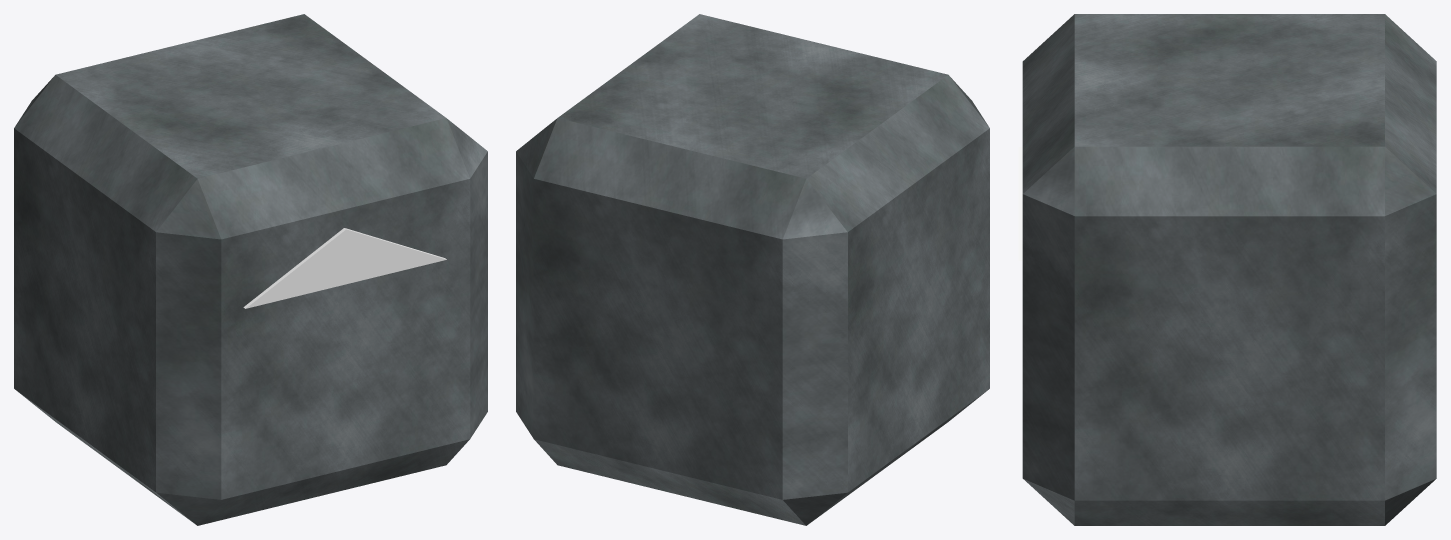
Rendered from Block.fbx.
The picture shows the model from 3 angles, left to right: view 1: azimuth 30°, elevation 25°; view 2: azimuth 150°, elevation 25°; view 3: azimuth 270°, elevation 25°; orthographic projection. The views are drawn at different scales.
Parts seen in each view (by area): view 1: mergedBlocks; view 2: mergedBlocks; view 3: mergedBlocks.
Part boxes in pixels (<box>): mergedBlocks: <box>14,14,487,525</box>; mergedBlocks: <box>516,14,989,525</box>; mergedBlocks: <box>1018,14,1436,525</box>.
Bounding box in the file's own units: 0.8 × 0.8 × 0.8.
Materials: 2 (1 with a texture image).
